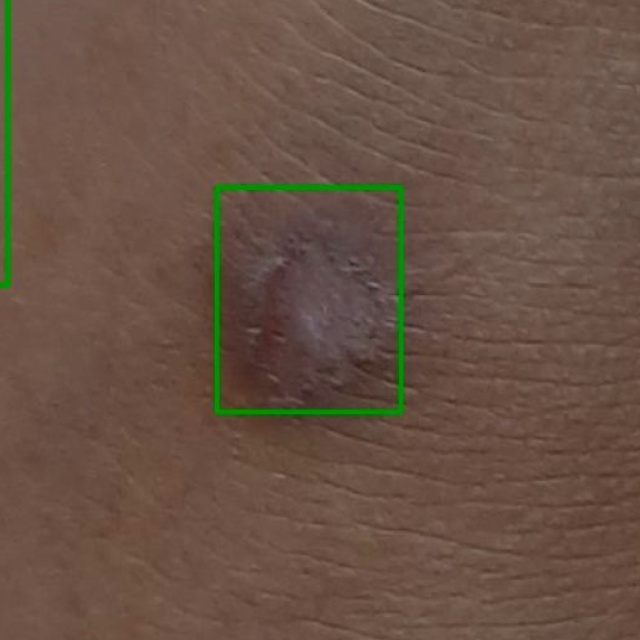Contact Dermatitis: (216, 187, 400, 411)
